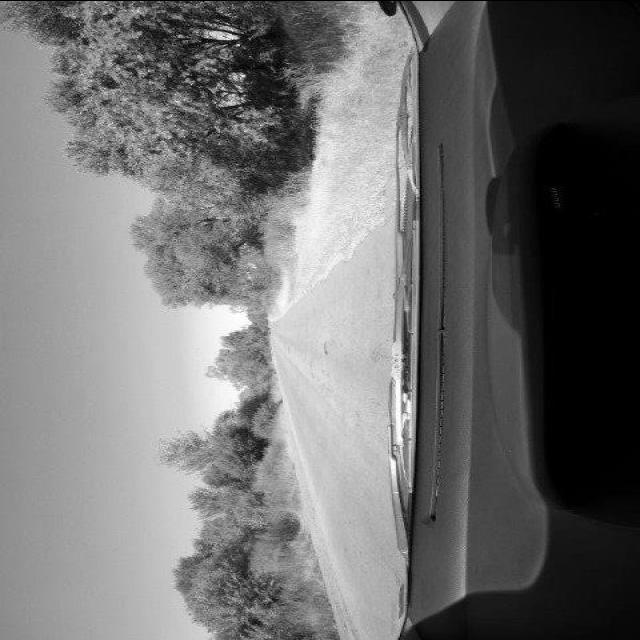lubang: (318, 339, 332, 355)
